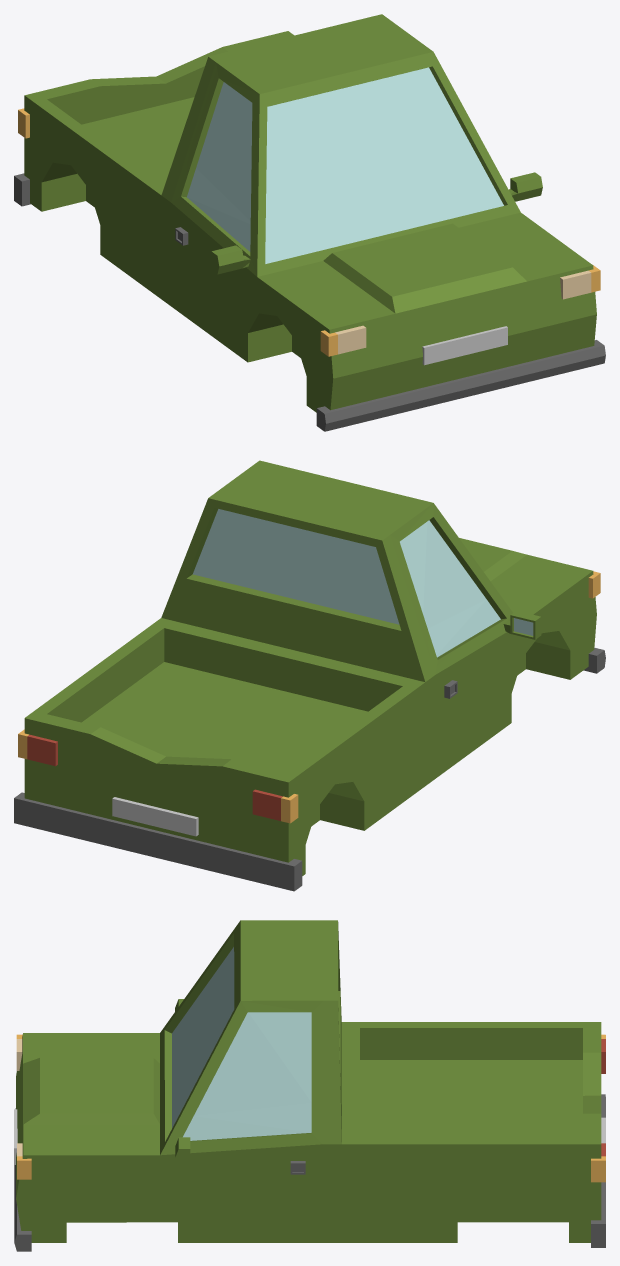
The model's file is Car_02.fbx.
The picture shows the model from 3 angles, top to bottom: view 1: azimuth 30°, elevation 25°; view 2: azimuth 150°, elevation 25°; view 3: azimuth 270°, elevation 25°; orthographic projection. The views are drawn at different scales.
Visible parts, largest first — view 1: Car_02; view 2: Car_02; view 3: Car_02.
Boxes of the visible parts, x1,y1,x2,y2 form: Car_02: [14, 14, 605, 431]; Car_02: [14, 460, 605, 891]; Car_02: [14, 920, 605, 1251].
Bounding box in the file's own units: 196 × 138 × 328.
